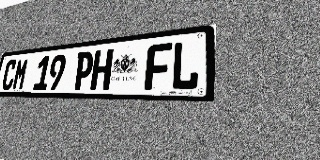1: (33, 55, 52, 90)
9: (46, 54, 67, 90)
C: (1, 59, 18, 90)
F: (144, 43, 172, 90)
H: (90, 49, 114, 90)
L: (170, 40, 200, 90)
M: (12, 58, 29, 90)
P: (72, 51, 95, 90)
